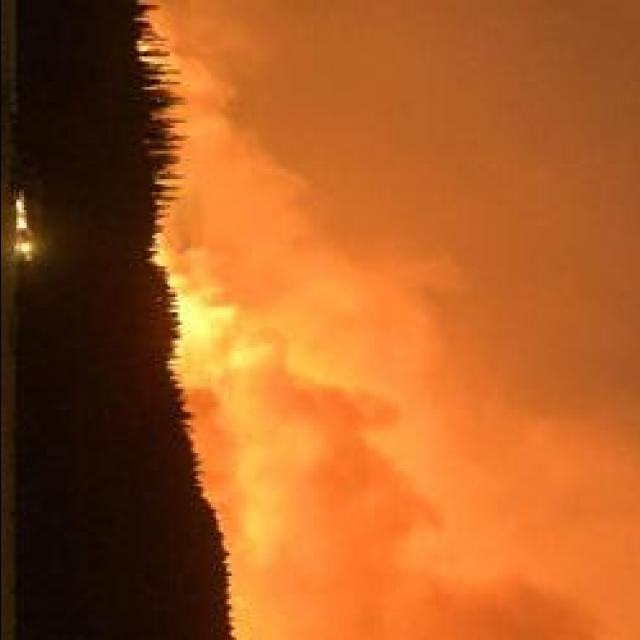fire: (170, 296, 235, 344)
smoke: (250, 369, 410, 602), (191, 349, 246, 469)
